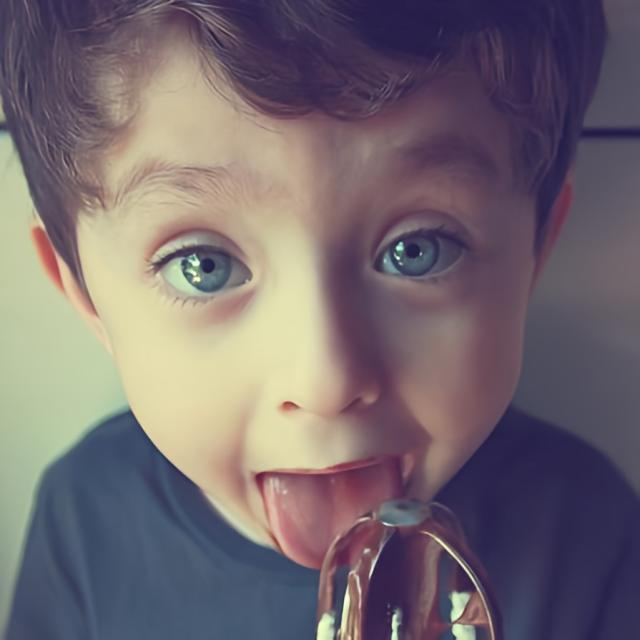surprise: (74, 6, 538, 571)
